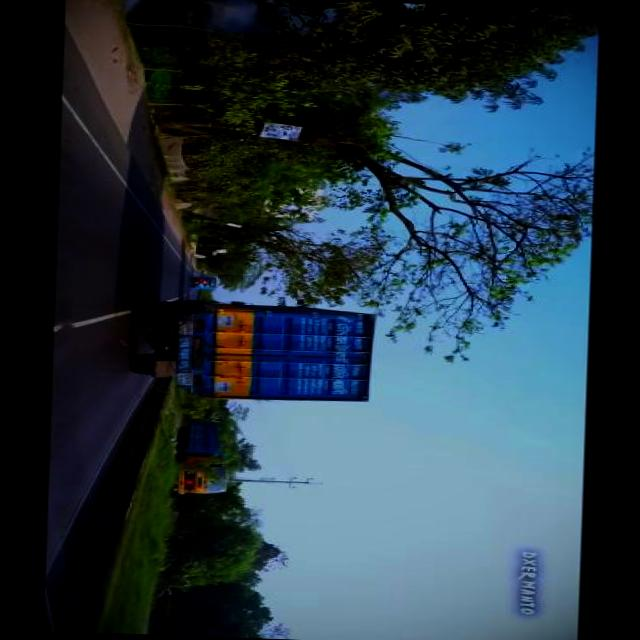bus: (190, 272, 220, 290)
truck: (125, 294, 378, 403), (177, 418, 234, 498)
